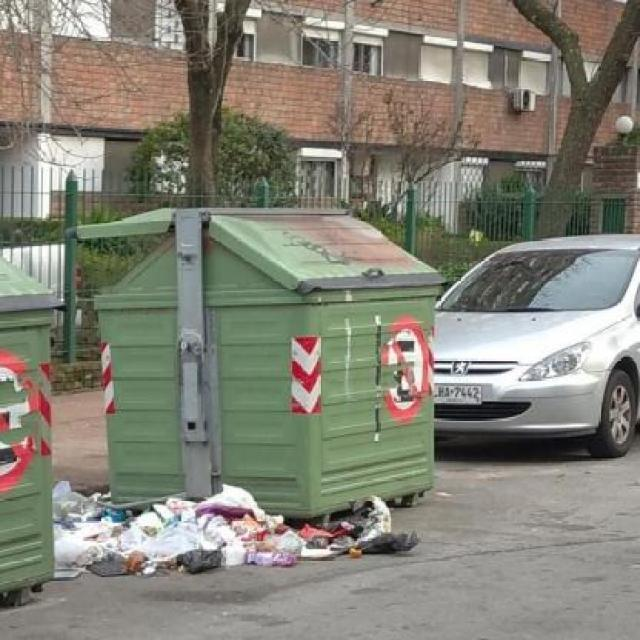garbage: (46, 471, 446, 582)
